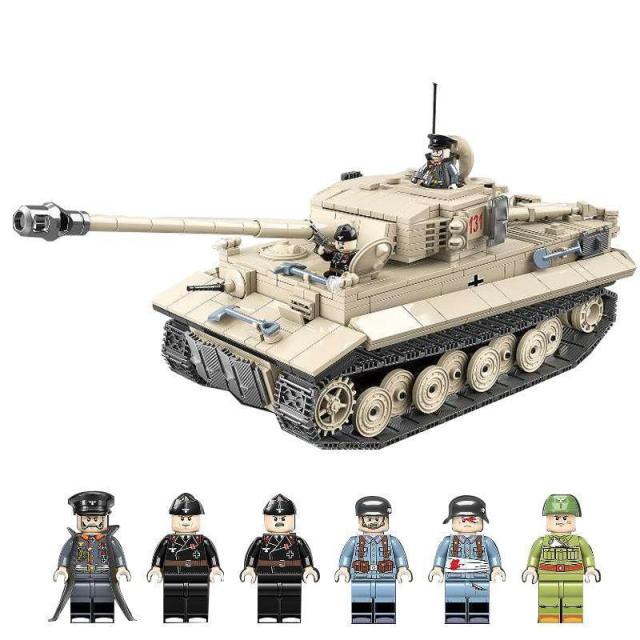Tanks: (10, 75, 634, 442)
